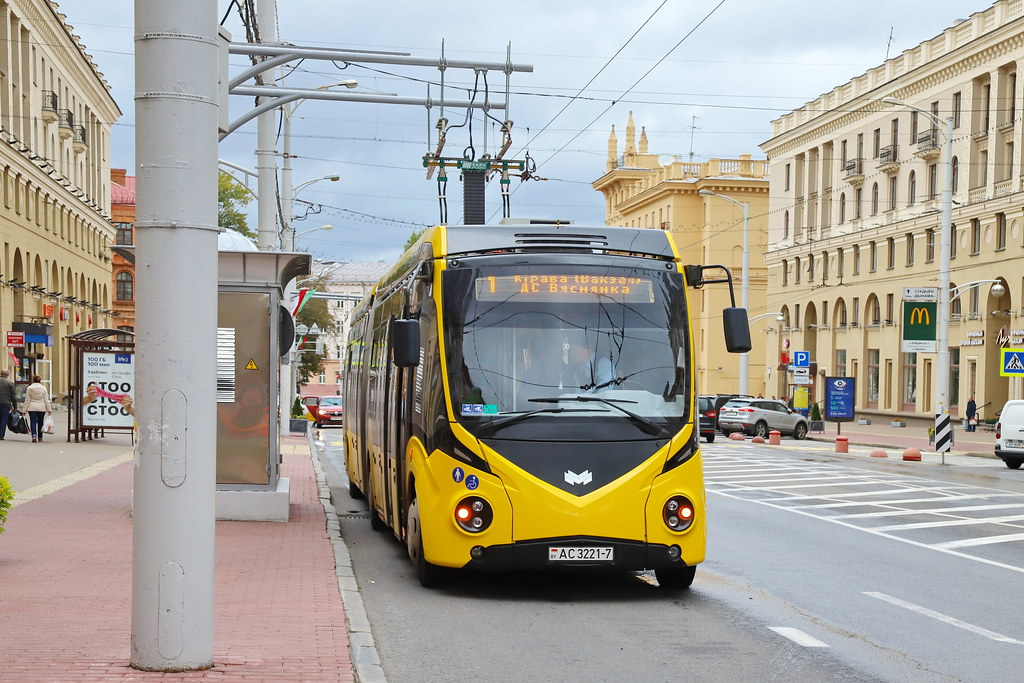bus: (339, 221, 709, 595)
passenger: (721, 392, 809, 440), (300, 393, 339, 424)
